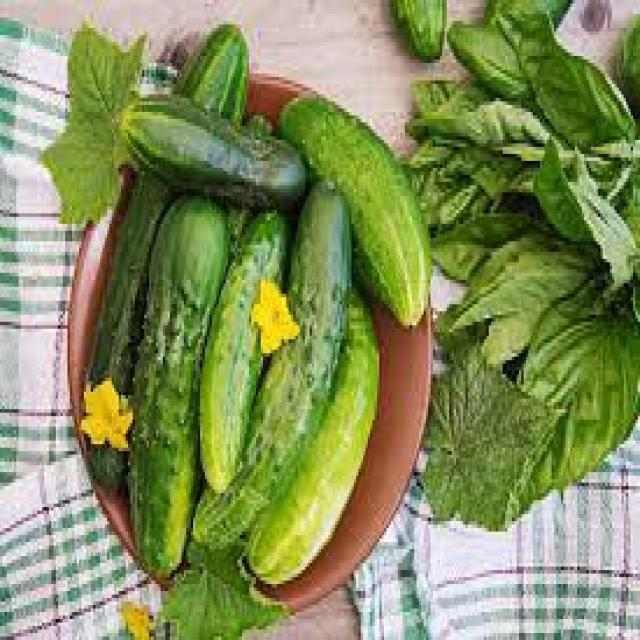cucumber: (126, 195, 227, 580), (251, 318, 383, 583), (279, 96, 430, 324), (198, 209, 292, 493)
